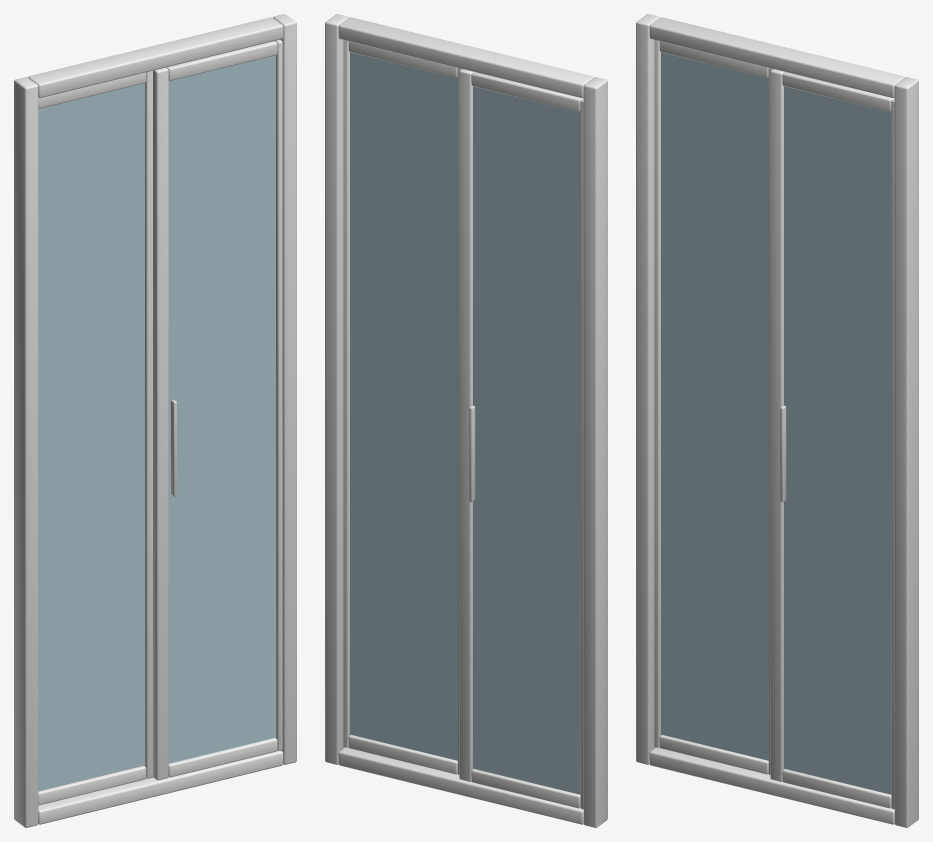
File: envidracado.glb
3 renders of one model, left to right at view 1: azimuth 30°, elevation 25°; view 2: azimuth 150°, elevation 25°; view 3: azimuth 330°, elevation 25°, orthographic.
Visible parts, largest first — view 1: p; view 2: p; view 3: p.
Part boxes in pixels (box(x1,y1,x2,y2)): p: box(14, 14, 296, 827); p: box(325, 14, 607, 827); p: box(636, 14, 918, 827).
Bounding box in the file's own units: 0.9 × 2.34 × 0.094.
